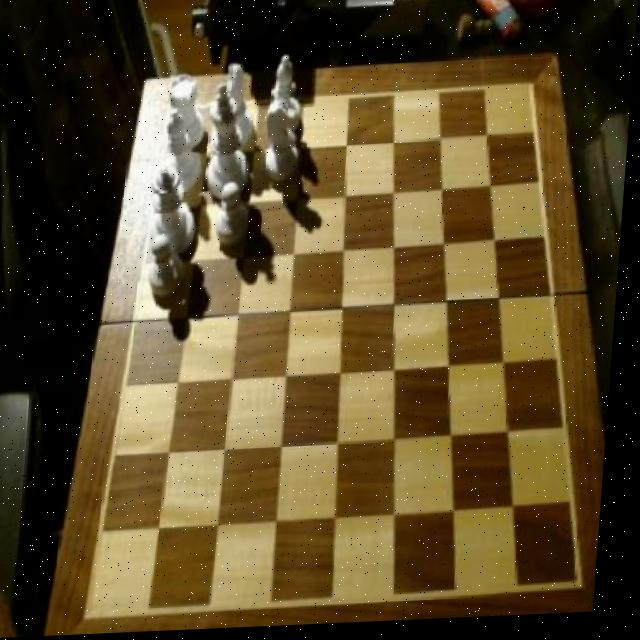black-rook: (158, 111, 207, 195), (268, 54, 307, 133)
white-bishop: (205, 88, 257, 202)
white-king: (264, 105, 303, 190), (225, 65, 260, 151)
white-knight: (214, 183, 252, 251), (148, 239, 187, 303)
white-pawn: (146, 163, 203, 258)
white-queen: (163, 77, 210, 156)
